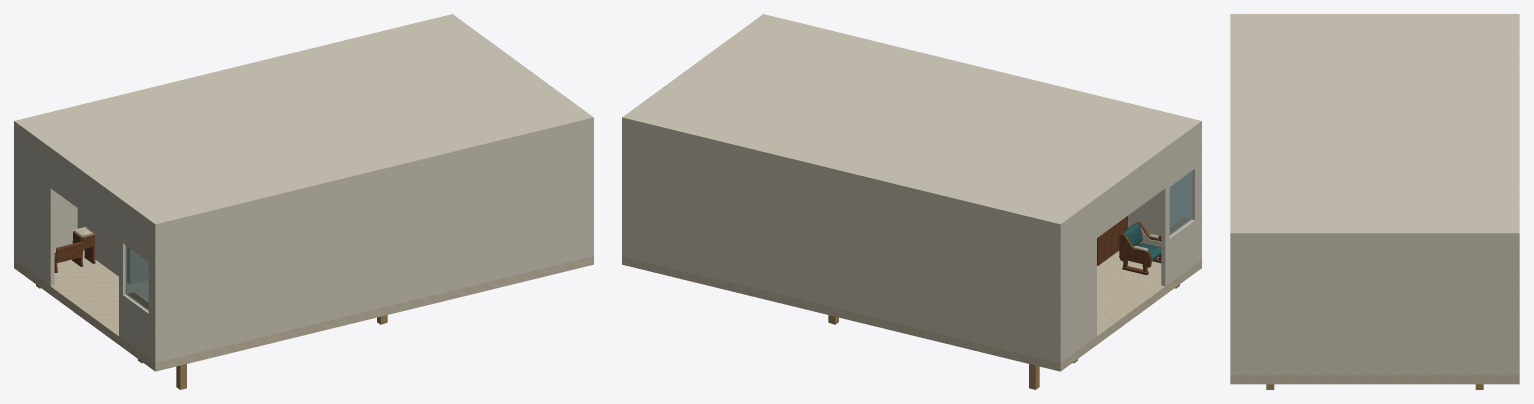
File: NightGardenD15Specialty_554_r001.glb
3 views of the same model, side by side, from view 1: azimuth 30°, elevation 25°; view 2: azimuth 150°, elevation 25°; view 3: azimuth 270°, elevation 25° (orthographic). The views are drawn at different scales.
Parts seen in each view (by area): view 1: NG554_Ceiling, NG554_NorthSide, NG554_RoomFloor, NG554_EntryShoulderSouth, NG554_EntryHeader, NG554_StreetWindowLower, NG554_WashEntrySide, NG554_SouthSide, NG554_StreetWindowUpper, NG554_ScreenedStreetGlass; view 2: NG554_Ceiling, NG554_SouthSide, NG554_RoomFloor, NG554_EntryShoulderSouth, NG554_EntryHeader, NG554_NorthSide, NG554_StreetWindowLower, NG554_StreetWindowUpper, NG554_ScreenedStreetGlass, NG554_EntryPrivacyDogleg, NG554_DayReadingChair__DAY_CHAIR_R_swept_walnut_cheek; view 3: NG554_Ceiling, NG554_OpaqueRearBoundary, NG554_RoomFloor, NG554_NorthSide, NG554_SouthSide.
Boxes of the visible parts, x1,y1,x2,y2 form: NG554_Ceiling: [14, 14, 593, 229]; NG554_NorthSide: [153, 123, 593, 362]; NG554_RoomFloor: [14, 250, 593, 371]; NG554_EntryShoulderSouth: [16, 128, 54, 286]; NG554_EntryHeader: [49, 152, 119, 238]; NG554_StreetWindowLower: [119, 292, 152, 360]; NG554_WashEntrySide: [77, 208, 133, 284]; NG554_SouthSide: [14, 127, 77, 260]; NG554_StreetWindowUpper: [119, 204, 152, 264]; NG554_ScreenedStreetGlass: [125, 245, 148, 310]; NG554_Ceiling: [622, 14, 1201, 229]; NG554_SouthSide: [622, 123, 1062, 362]; NG554_RoomFloor: [622, 251, 1201, 371]; NG554_EntryShoulderSouth: [1063, 203, 1096, 360]; NG554_EntryHeader: [1096, 154, 1165, 237]; NG554_NorthSide: [1128, 127, 1201, 260]; NG554_StreetWindowLower: [1161, 217, 1199, 286]; NG554_StreetWindowUpper: [1163, 128, 1199, 190]; NG554_ScreenedStreetGlass: [1169, 171, 1192, 235]; NG554_EntryPrivacyDogleg: [1097, 216, 1127, 265]; NG554_DayReadingChair__DAY_CHAIR_R_swept_walnut_cheek: [1119, 233, 1151, 267]; NG554_Ceiling: [1230, 14, 1519, 238]; NG554_OpaqueRearBoundary: [1235, 239, 1514, 375]; NG554_RoomFloor: [1230, 375, 1519, 384]; NG554_NorthSide: [1230, 239, 1234, 375]; NG554_SouthSide: [1515, 239, 1519, 375].
Size of the model in its own units: 12.9 by 5.31 by 7.2.
79 materials, 49 textured.
